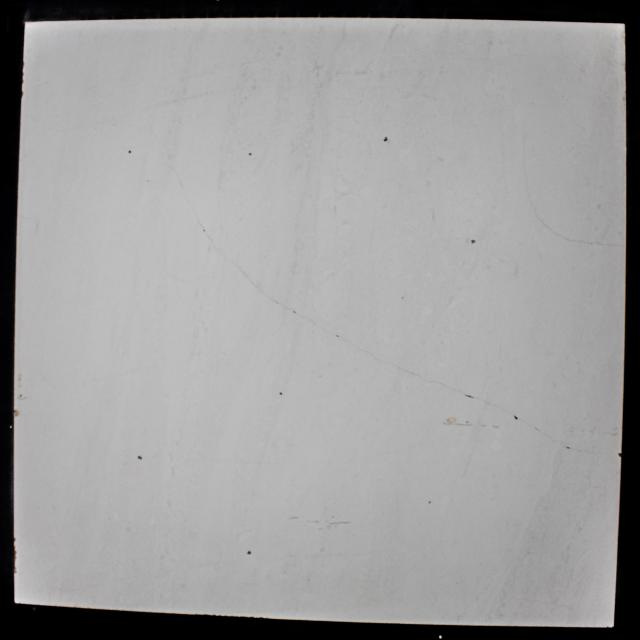edge-chipping: (13, 544, 17, 562), (617, 452, 622, 457)
hole: (137, 454, 143, 462), (469, 239, 476, 245), (383, 136, 388, 144), (246, 550, 252, 556), (127, 149, 132, 154), (514, 414, 518, 420), (248, 152, 252, 157), (279, 391, 283, 396), (566, 446, 570, 449), (428, 500, 431, 504)
line: (546, 228, 624, 247), (525, 175, 546, 226), (420, 378, 463, 392), (475, 398, 511, 413), (233, 264, 254, 285), (255, 284, 276, 302), (392, 364, 419, 376), (363, 349, 380, 361), (206, 232, 216, 248), (196, 217, 205, 229), (280, 302, 293, 310)
